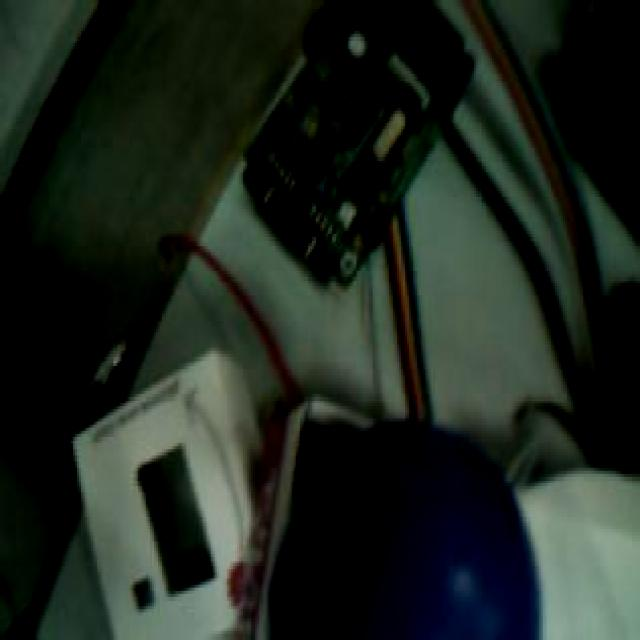BallPurple: (280, 420, 538, 640)
